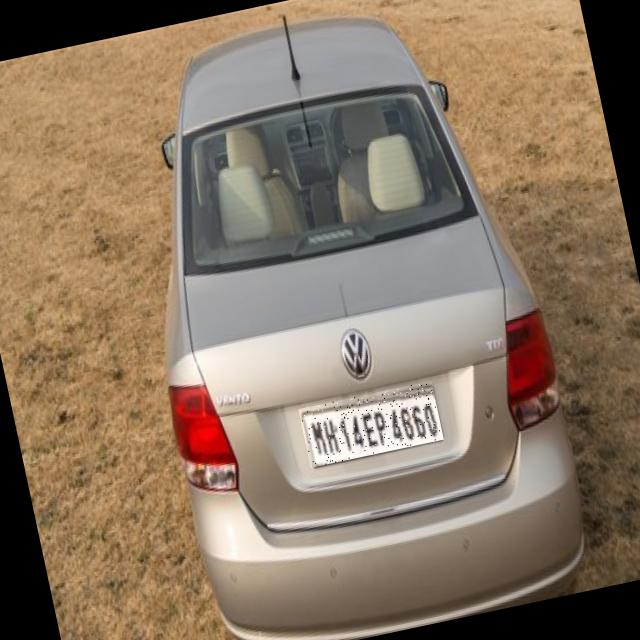Plate: (299, 381, 445, 468)
